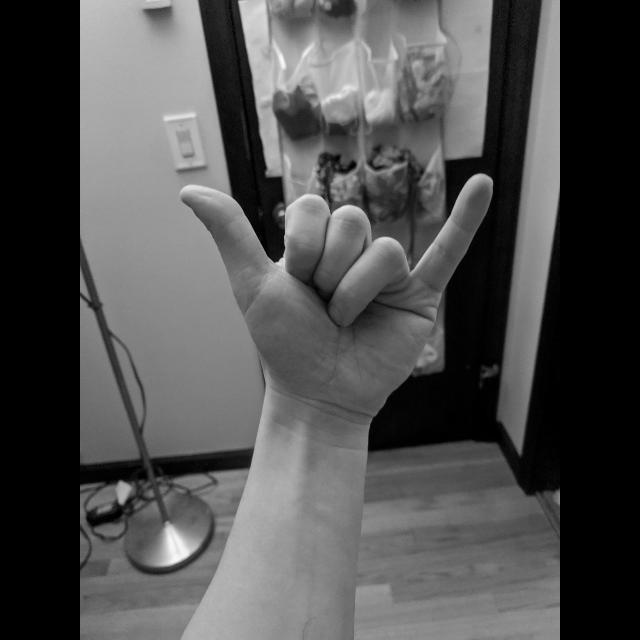Y: (174, 168, 498, 412)
